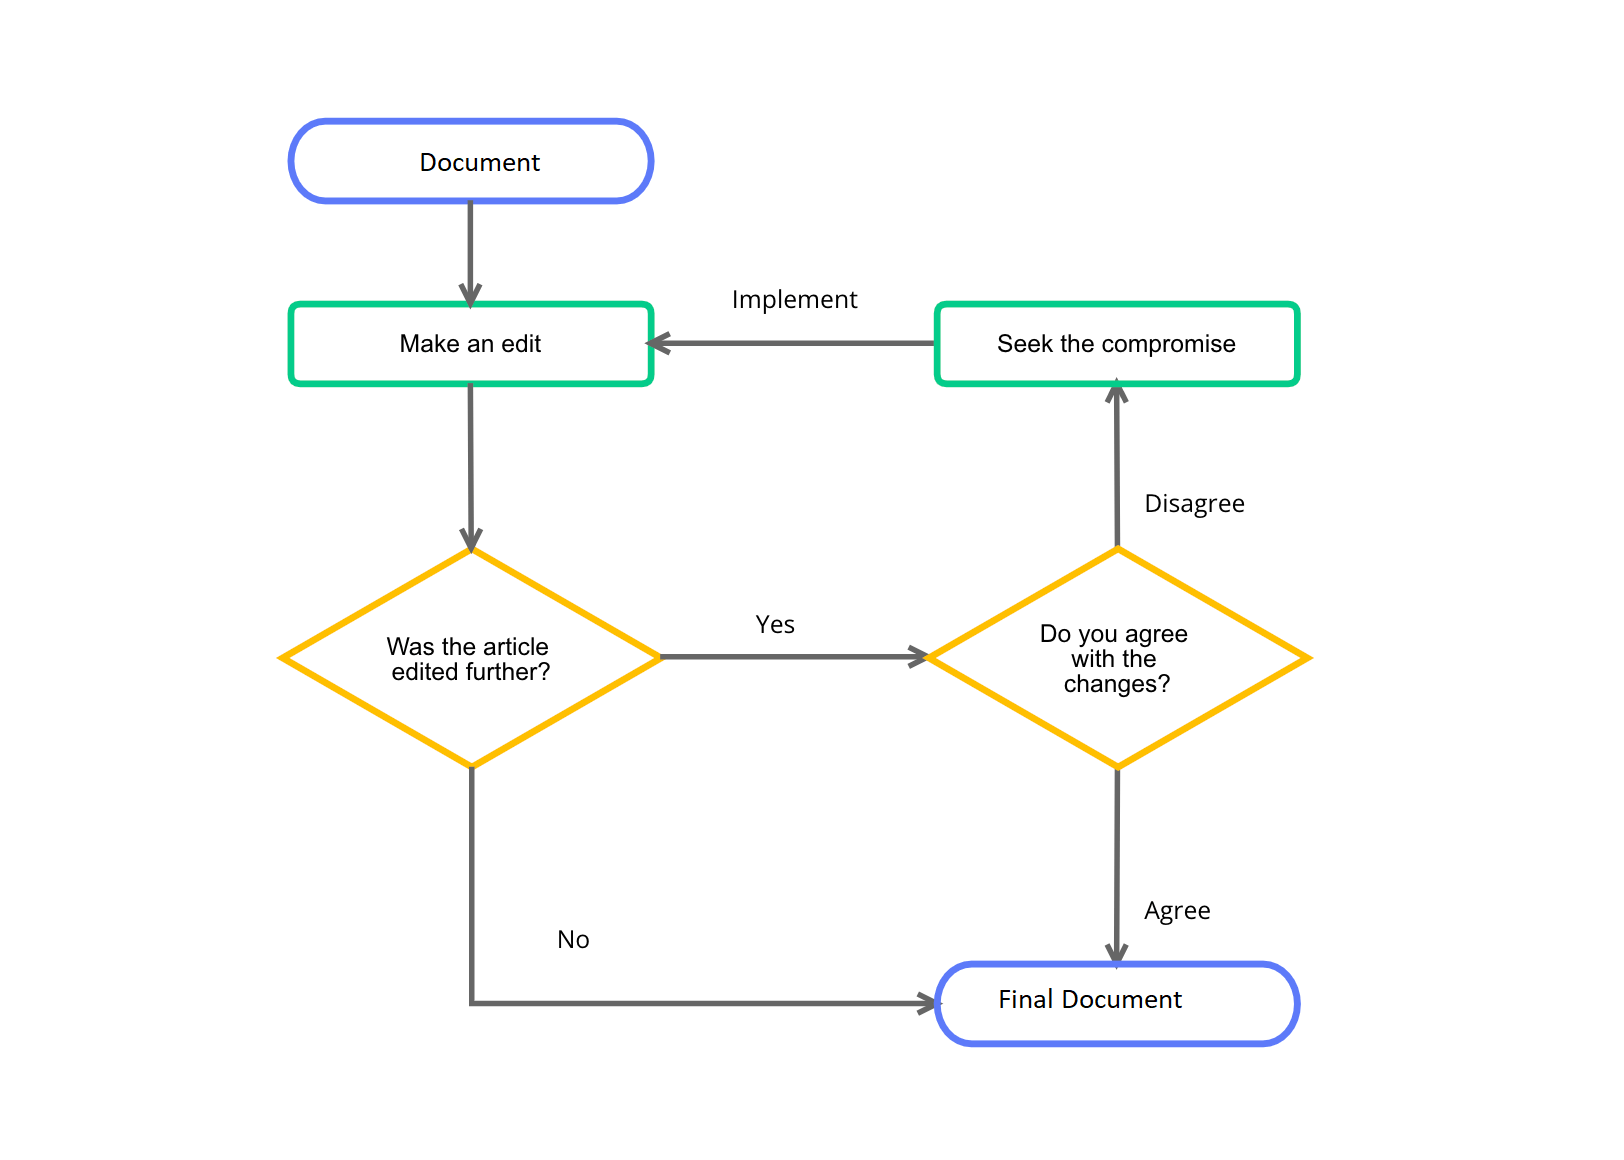arrow: (461, 770, 943, 1019), (646, 328, 932, 358), (1102, 766, 1135, 963), (653, 645, 932, 668), (454, 384, 484, 551), (1103, 384, 1133, 549), (461, 205, 484, 308)
decision: (926, 544, 1310, 766), (281, 545, 661, 765)
process: (286, 294, 656, 390), (927, 296, 1303, 384)
terminator: (281, 114, 658, 207), (930, 958, 1300, 1051)
text: (1033, 621, 1186, 698), (382, 626, 553, 689), (984, 328, 1239, 354), (991, 980, 1186, 1014), (395, 328, 543, 358), (728, 287, 858, 314), (414, 149, 551, 175), (1140, 491, 1247, 521), (1133, 901, 1216, 924), (745, 610, 798, 636), (547, 924, 591, 954)
